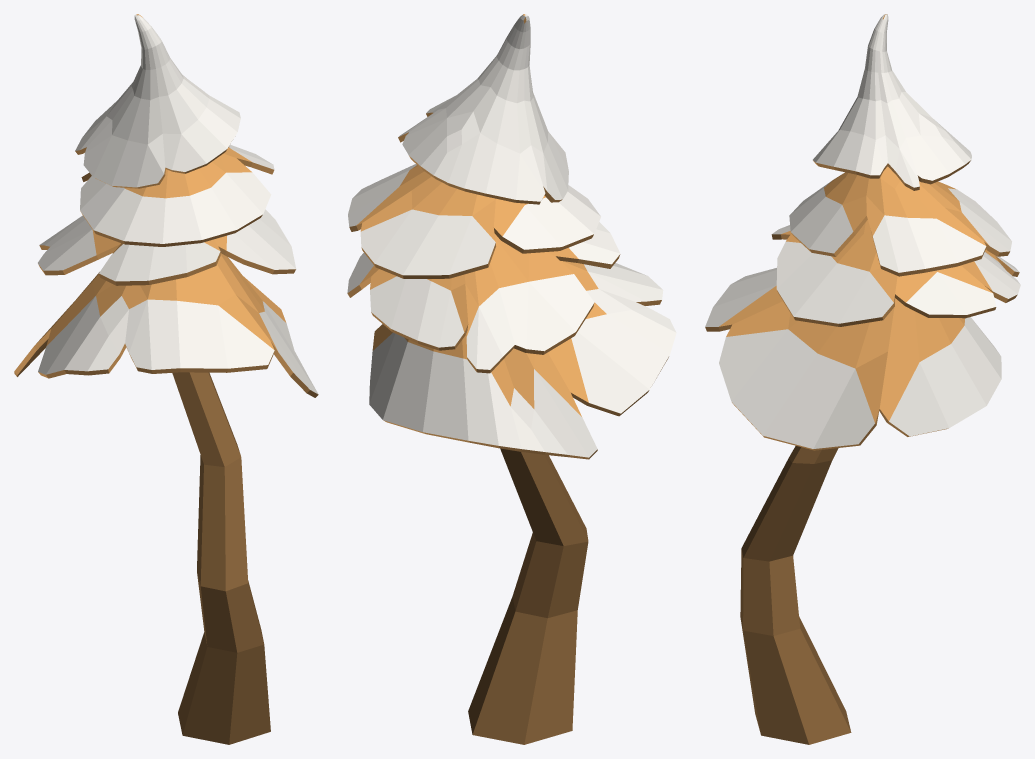
The model's file is PineTree_Snow_4.glb.
3 views of the same model, side by side, from view 1: azimuth 30°, elevation 25°; view 2: azimuth 150°, elevation 25°; view 3: azimuth 270°, elevation 25° (orthographic). The views are drawn at different scales.
Visible parts, largest first — view 1: PineTree_Snow_4; view 2: PineTree_Snow_4; view 3: PineTree_Snow_4.
Boxes of the visible parts, box(x1,y1,x2,y2) form: PineTree_Snow_4: box(14, 14, 318, 744); PineTree_Snow_4: box(347, 14, 676, 744); PineTree_Snow_4: box(705, 14, 1020, 744).
Bounding box in the file's own units: 1.25 × 3.34 × 1.39.
